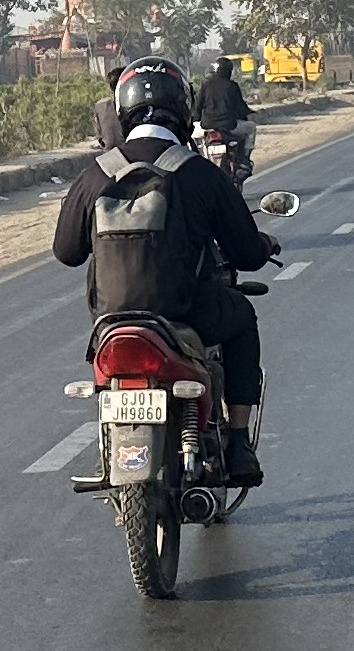BikeWithRider: (42, 48, 306, 608), (184, 51, 266, 201)
Helmet: (104, 51, 202, 151)
